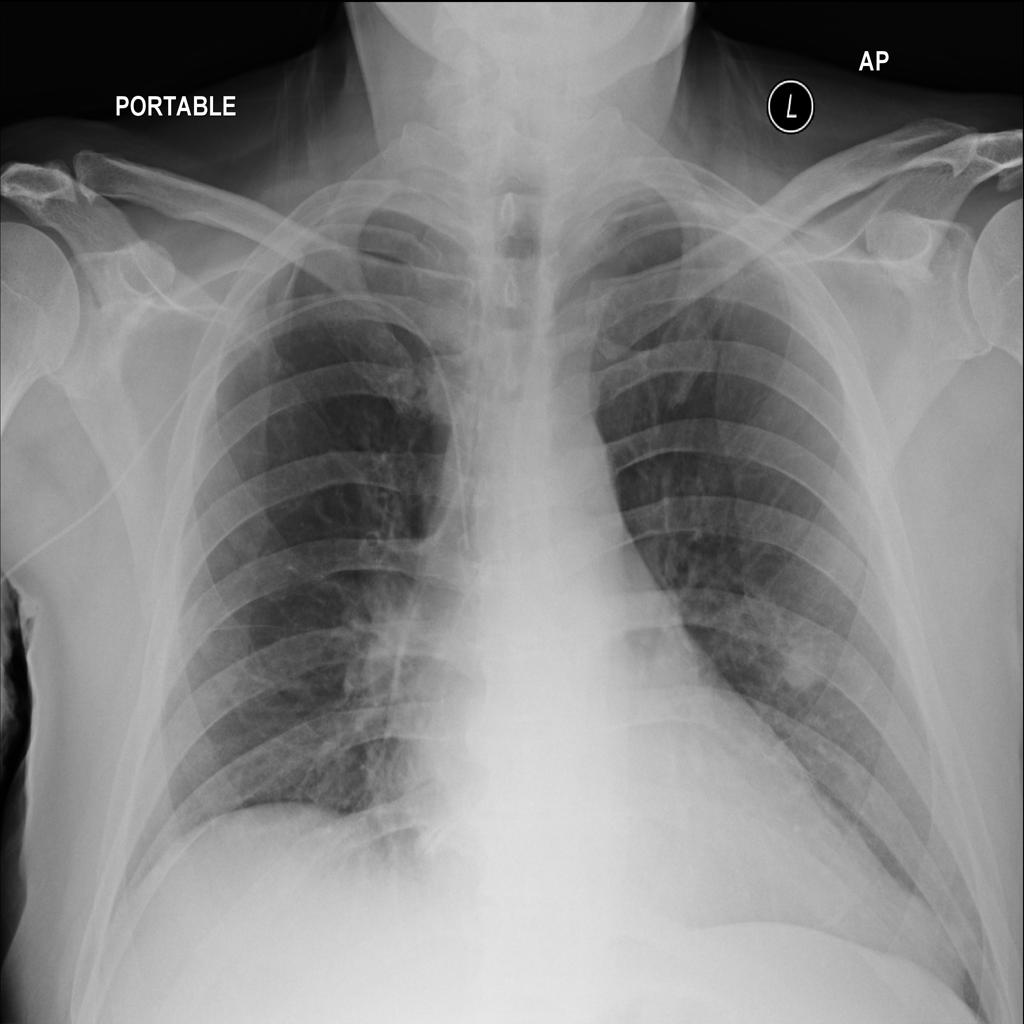nodule: (767, 620, 837, 706)
